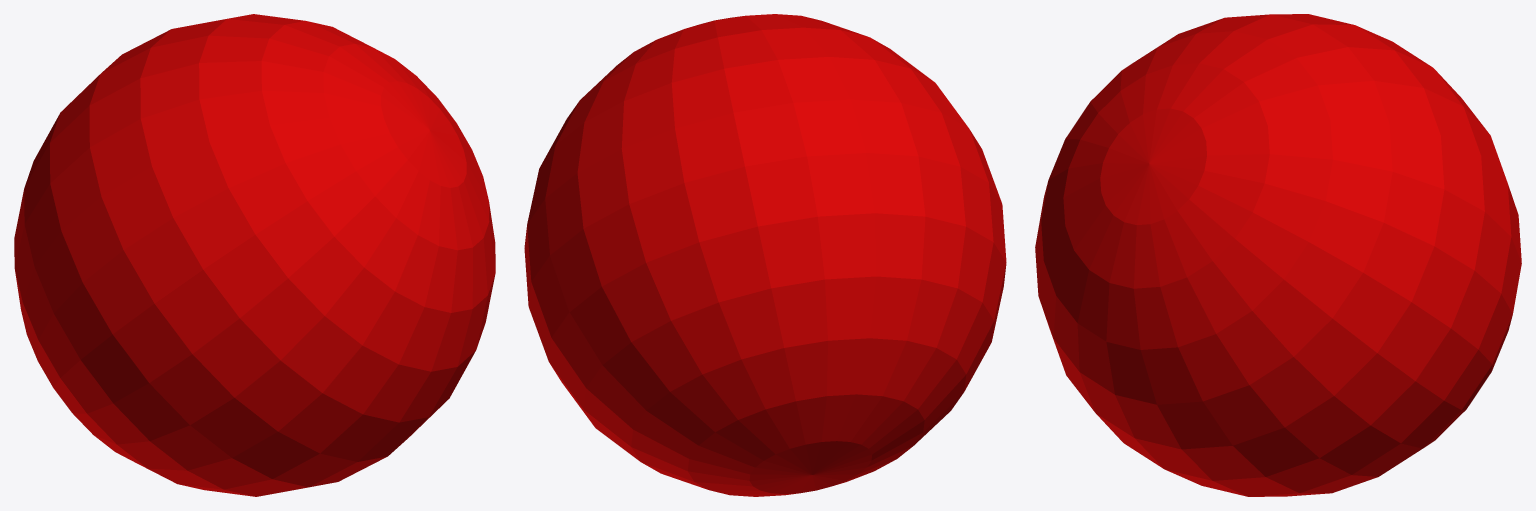
File: eclipse_x.obj
The picture shows the model from 3 angles, left to right: view 1: azimuth 30°, elevation 25°; view 2: azimuth 150°, elevation 25°; view 3: azimuth 270°, elevation 25°; orthographic projection.
Visible parts, largest first — view 1: XMesh; view 2: XMesh; view 3: XMesh.
Part boxes in pixels (x1,y1,x2,y2): XMesh: (14,14,495,496); XMesh: (524,14,1006,496); XMesh: (1035,14,1521,496).
Bounding box in the file's own units: 1.31 × 1.31 × 1.31.
